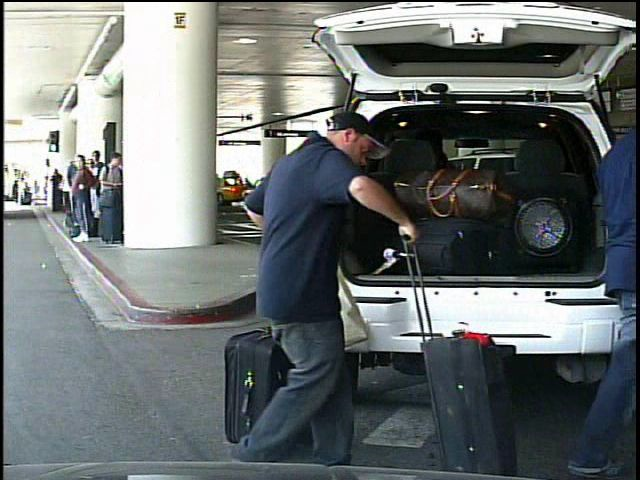person: (239, 100, 419, 475), (18, 176, 29, 207)
